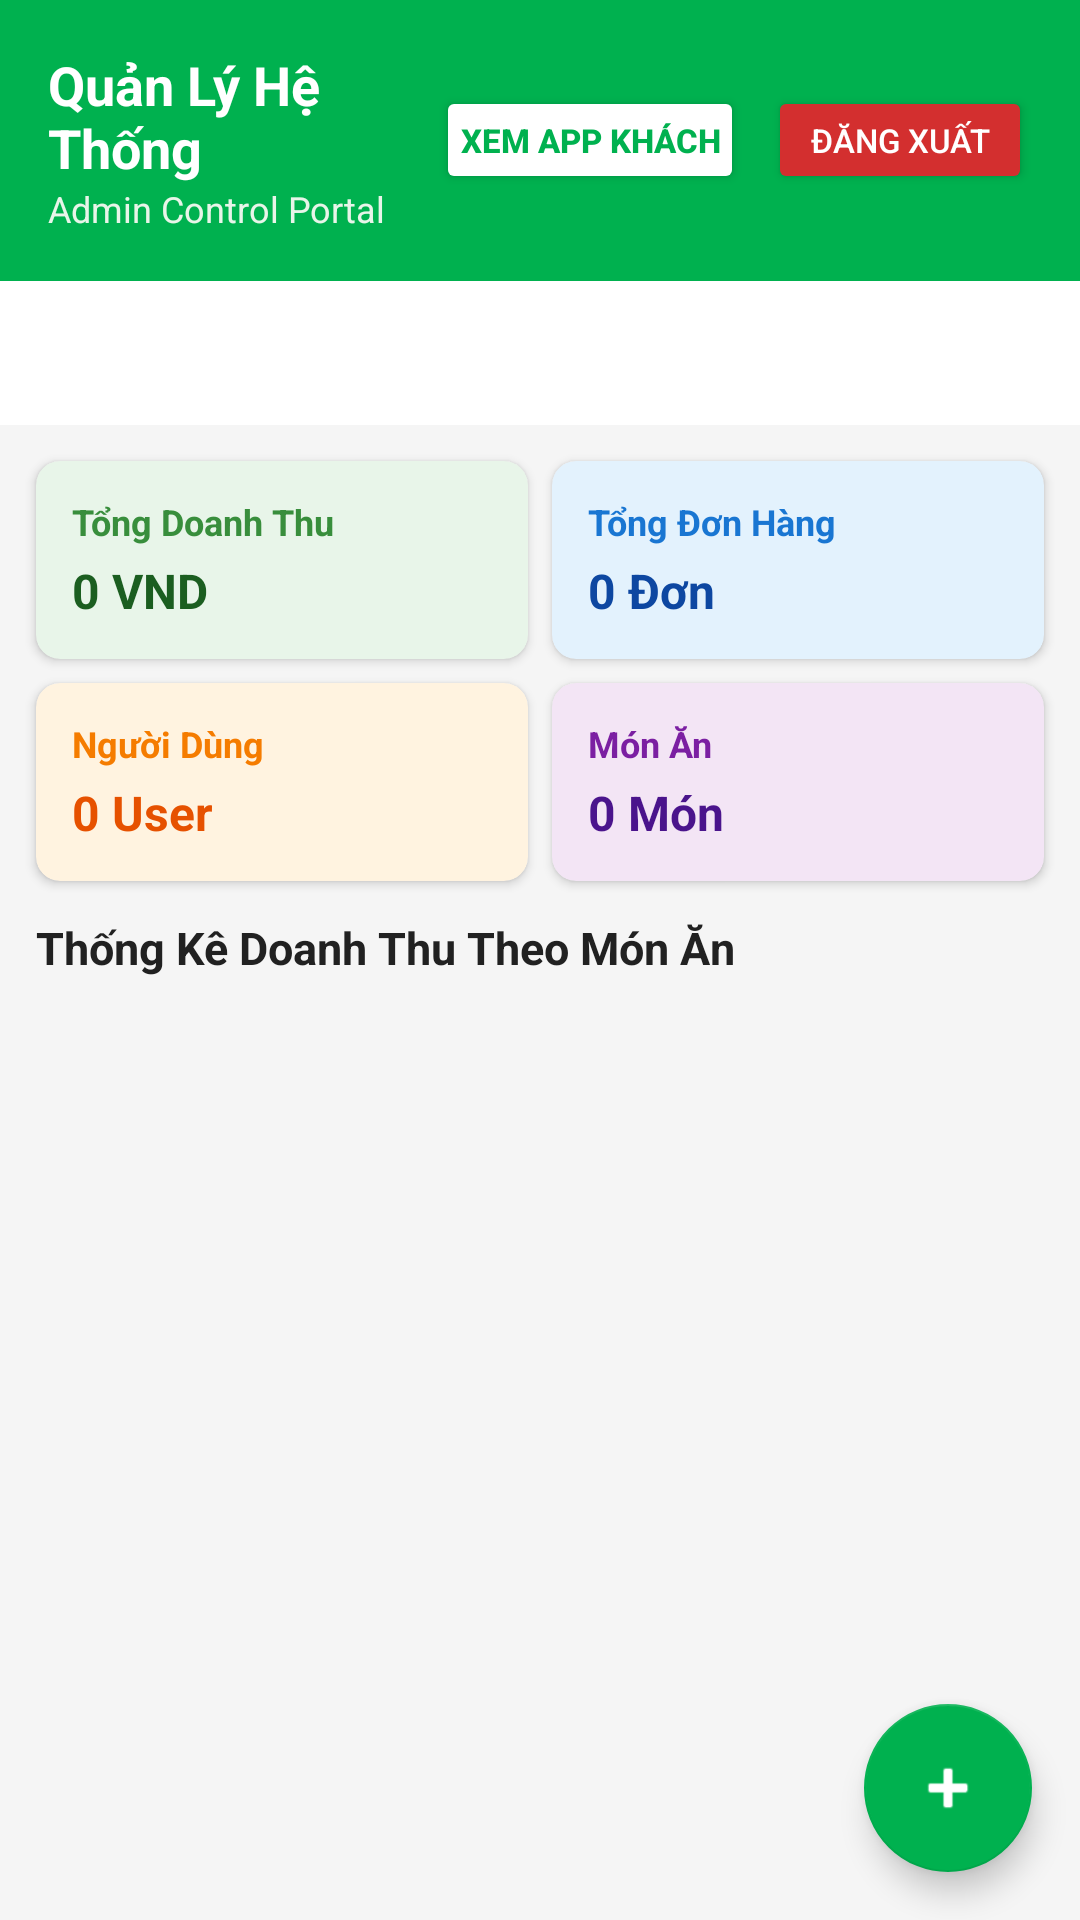

Named icons in this screenshot (1080px x 1920px) and their centers, (x=x, y=y):
Add New: (x=948, y=1788)
